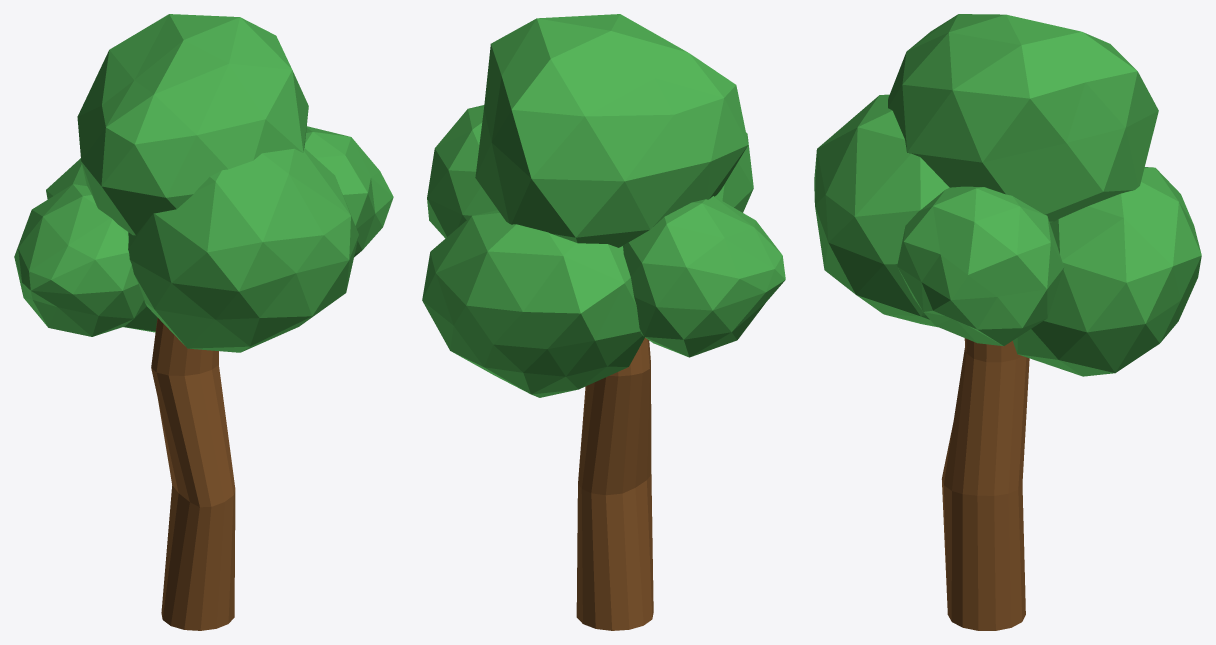
Rendered from stylized-tree.glb.
3 views of the same model, side by side, from view 1: azimuth 30°, elevation 25°; view 2: azimuth 150°, elevation 25°; view 3: azimuth 270°, elevation 25° (orthographic). The views are drawn at different scales.
Visible parts, largest first — view 1: Icosphere_1, Icosphere.001_2, Cylinder_0, Icosphere.004_5, Icosphere.003_4, Icosphere.002_3; view 2: Icosphere_1, Icosphere.002_3, Cylinder_0, Icosphere.004_5, Icosphere.003_4, Icosphere.001_2; view 3: Icosphere_1, Icosphere.002_3, Cylinder_0, Icosphere.003_4, Icosphere.001_2.
Boxes of the visible parts, x1,y1,x2,y2 form: Icosphere_1: (77,14,308,235); Icosphere.001_2: (128,148,358,352); Cylinder_0: (151,317,235,630); Icosphere.004_5: (14,184,146,336); Icosphere.003_4: (304,126,393,257); Icosphere.002_3: (46,158,157,332); Icosphere_1: (475,14,748,247); Icosphere.002_3: (422,210,644,397); Cylinder_0: (576,337,653,630); Icosphere.004_5: (623,196,785,357); Icosphere.003_4: (427,105,497,238); Icosphere.001_2: (715,132,753,212); Icosphere_1: (888,14,1158,222); Icosphere.002_3: (1013,167,1201,376); Cylinder_0: (941,338,1029,630); Icosphere.003_4: (897,186,1063,346); Icosphere.001_2: (814,94,949,327).
Bounding box in the file's own units: 2.02 × 3.2 × 1.87.
